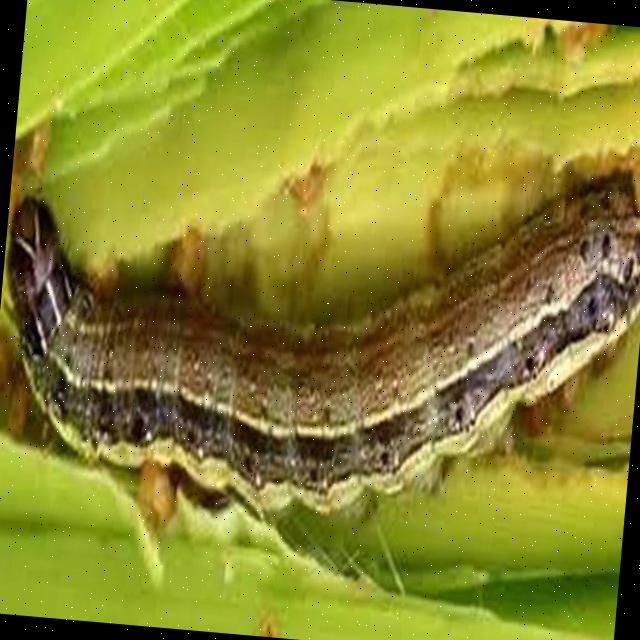worm: (1, 109, 640, 554)
